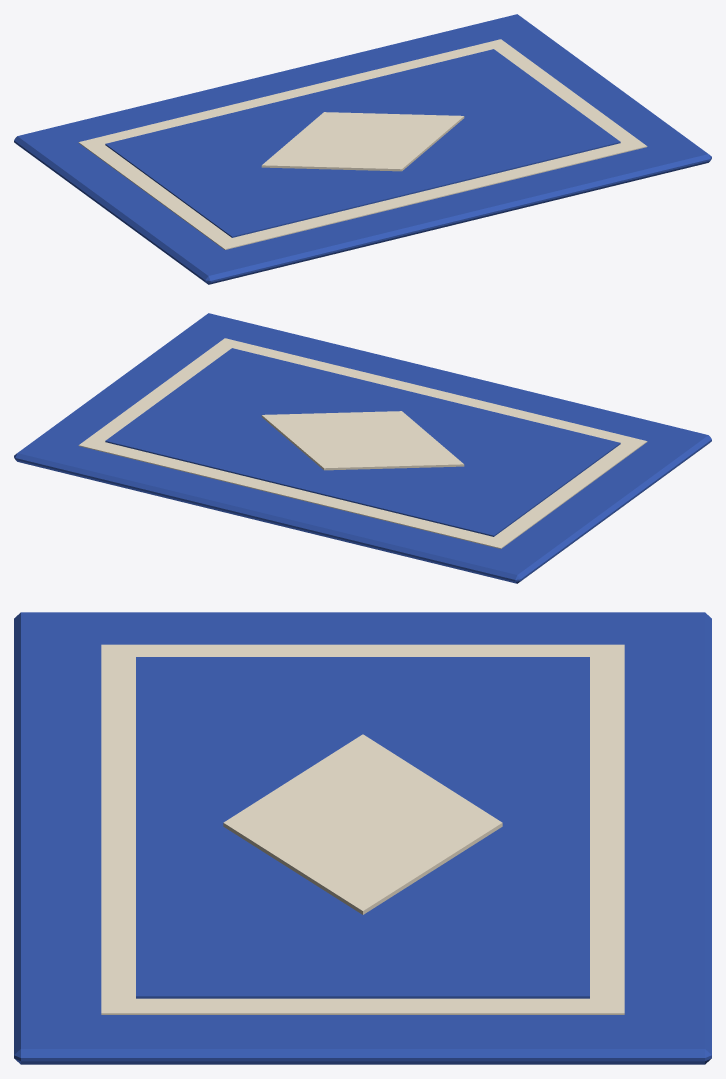
The model's file is BlueRug.fbx.
3 views of the same model, one above another, from view 1: azimuth 30°, elevation 25°; view 2: azimuth 150°, elevation 25°; view 3: azimuth 270°, elevation 25° (orthographic). The views are drawn at different scales.
Parts seen in each view (by area): view 1: BlueRug; view 2: BlueRug; view 3: BlueRug.
Part boxes in pixels (x1=…): BlueRug: x1=14, y1=14, x2=711, y2=284; BlueRug: x1=14, y1=313, x2=711, y2=583; BlueRug: x1=14, y1=612, x2=711, y2=1064.
Size of the model in its own units: 6 by 0.15 by 4.
1 material, 1 textured.
